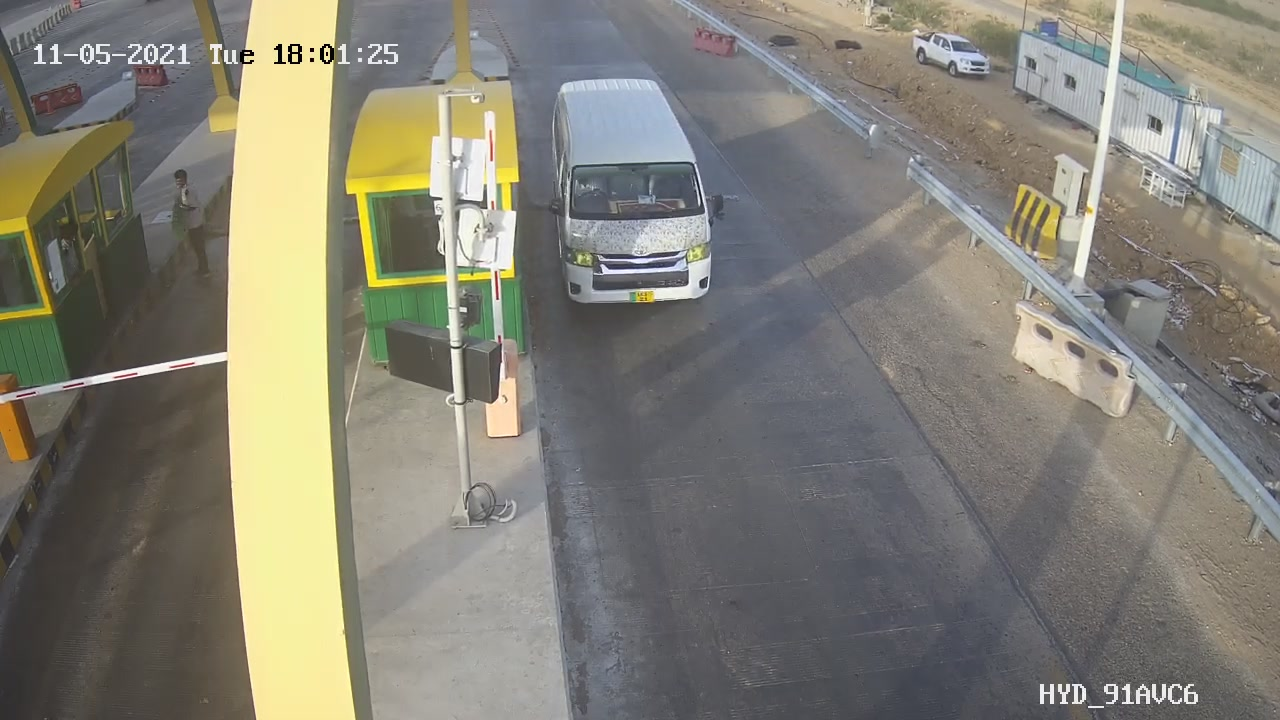F2: (544, 72, 735, 309)
